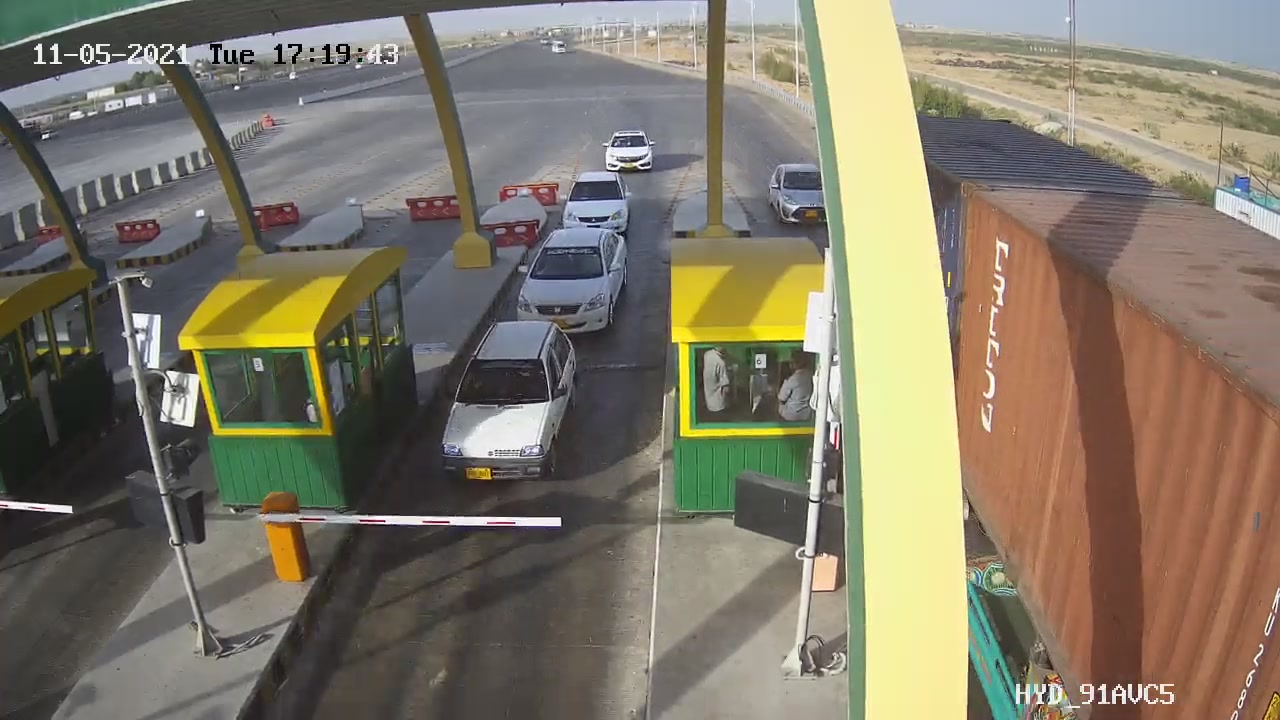F1: (424, 309, 600, 494), (507, 214, 638, 347)
